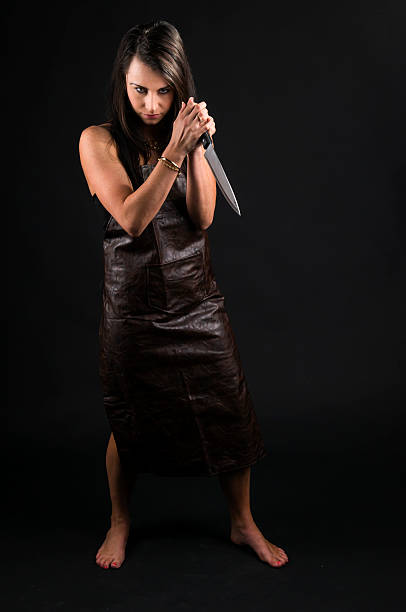knife: (199, 130, 242, 217)
